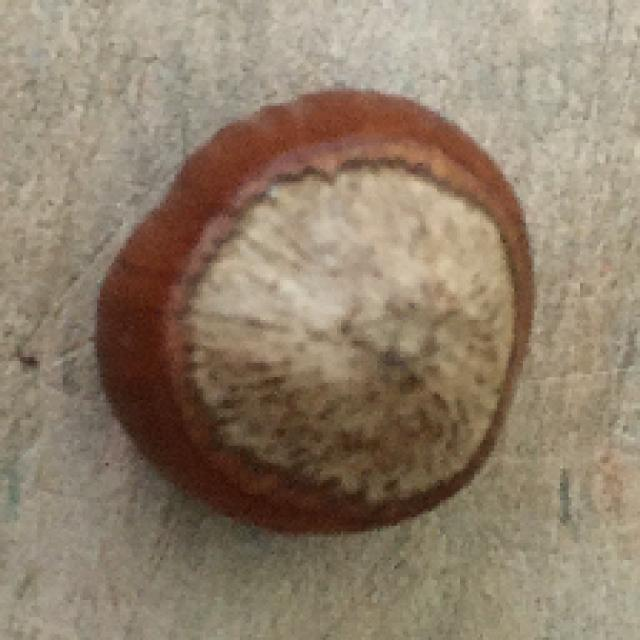QualityHazelnut: (88, 87, 537, 543)
